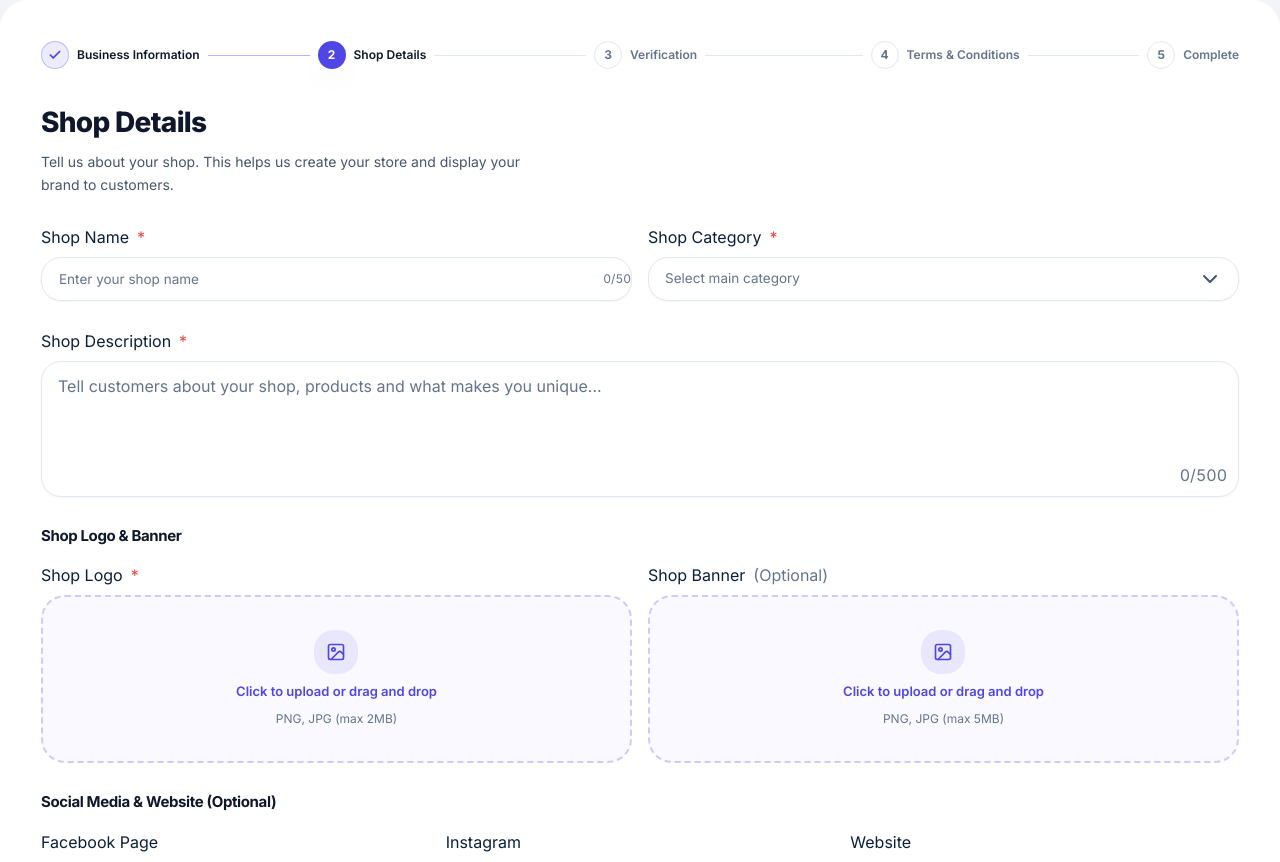
Test: SellerRegisterForm shop details › updates the shop name character count as the user types
This screenshot has width=1280, height=862.
Type "Nova" into the field labelled "Shop Name *" at (323, 278), box [42, 256, 603, 300]
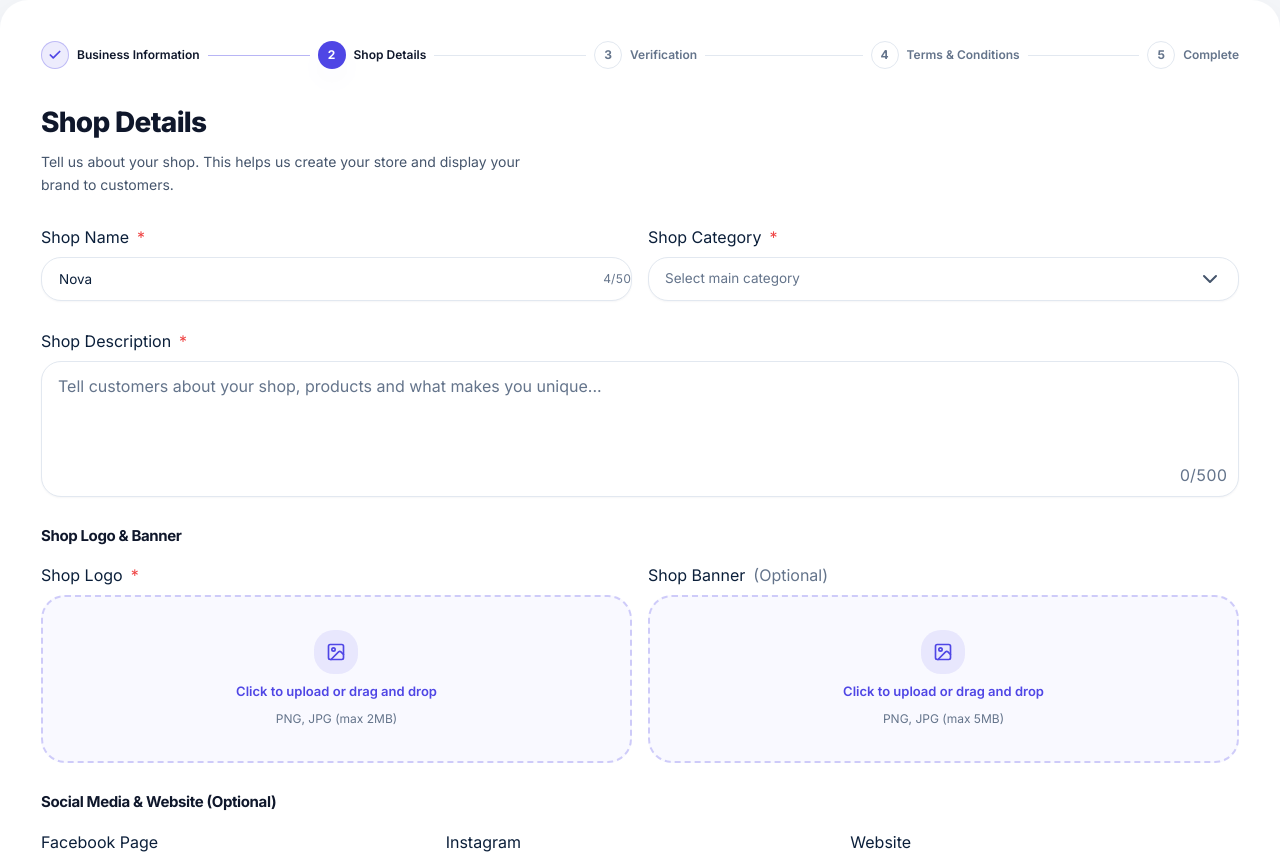
expect the text "4/50" is shown: met, box [603, 270, 631, 288]
